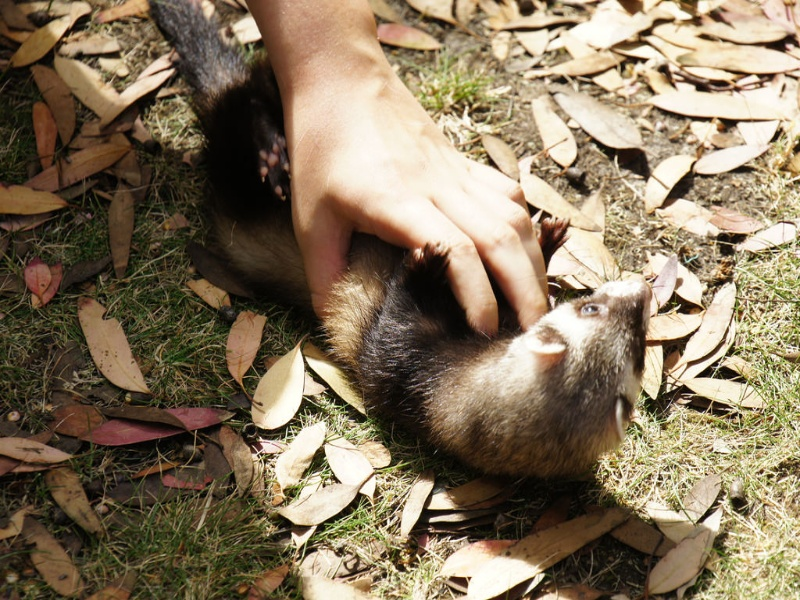minkish: (407, 254, 665, 500)
